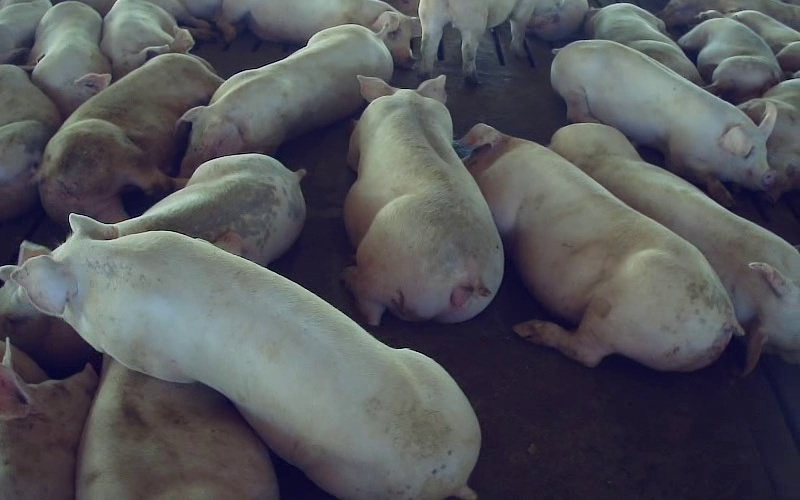pig: (8, 215, 479, 496), (462, 124, 741, 370), (551, 124, 799, 372), (344, 75, 503, 324), (551, 40, 775, 205), (38, 28, 221, 222), (179, 22, 392, 175), (76, 358, 277, 499), (113, 154, 305, 265), (0, 339, 96, 499), (217, 0, 420, 67), (418, 0, 534, 83), (678, 10, 781, 103), (28, 2, 111, 117), (585, 3, 702, 84), (100, 0, 176, 79)
